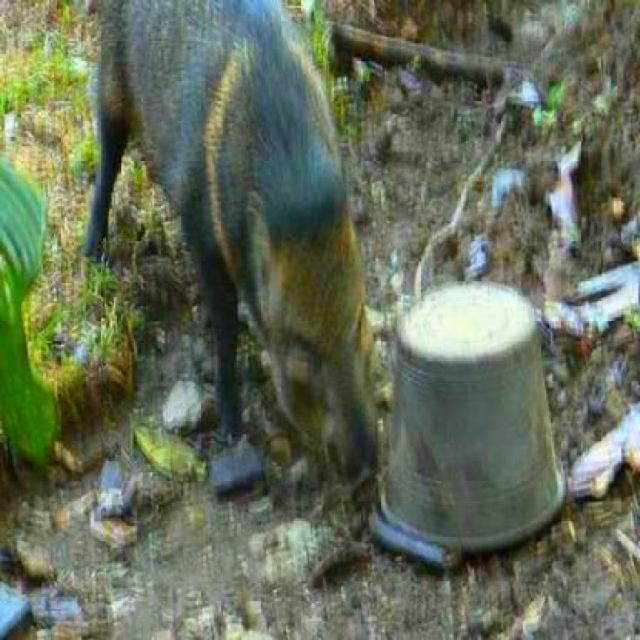Boar: (2, 0, 383, 546)
